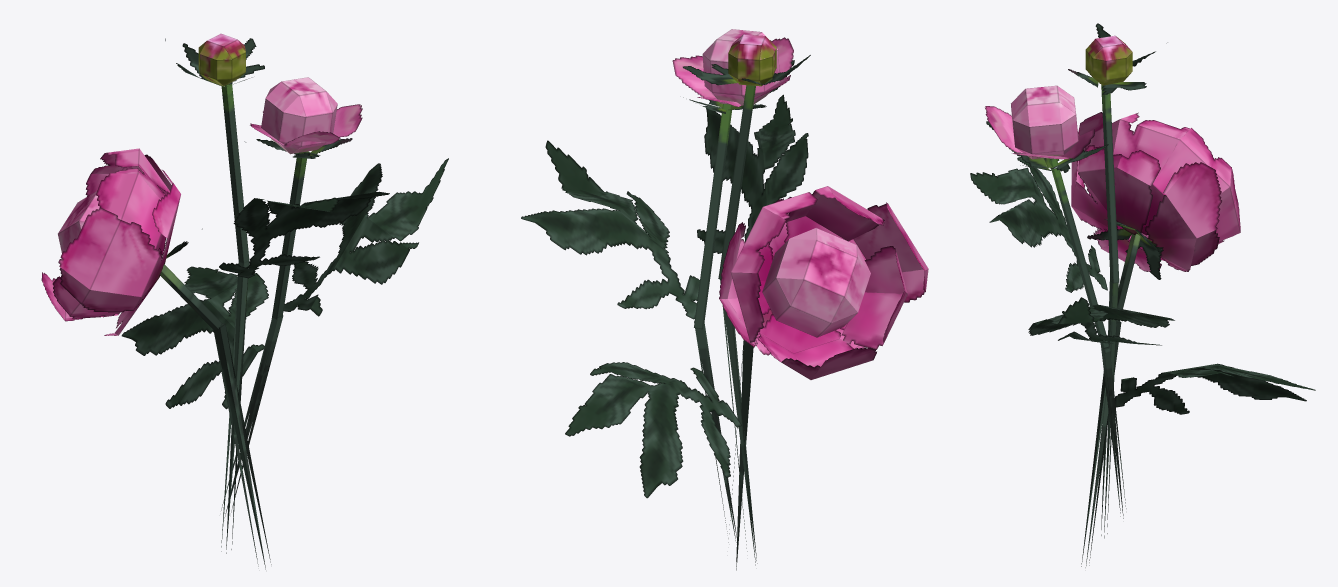
The picture shows the model from 3 angles, left to right: view 1: azimuth 30°, elevation 25°; view 2: azimuth 150°, elevation 25°; view 3: azimuth 270°, elevation 25°; orthographic projection. The views are drawn at different scales.
Visible parts, largest first — view 1: 0f4a3e41; view 2: 0f4a3e41; view 3: 0f4a3e41.
Part boxes in pixels (x1=…): 0f4a3e41: x1=41, y1=33, x2=448, y2=569; 0f4a3e41: x1=521, y1=29, x2=928, y2=570; 0f4a3e41: x1=970, y1=23, x2=1315, y2=567.
Bounding box in the file's own units: 0.1527 × 0.1921 × 0.1238.
Materials: 14 (14 with a texture image).
